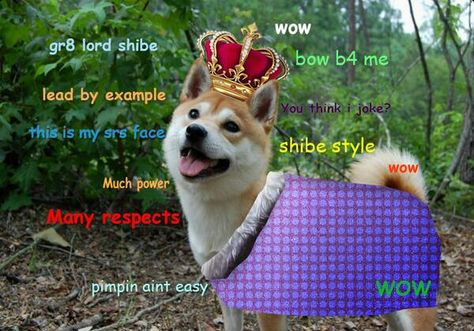doge: (162, 52, 279, 209)
